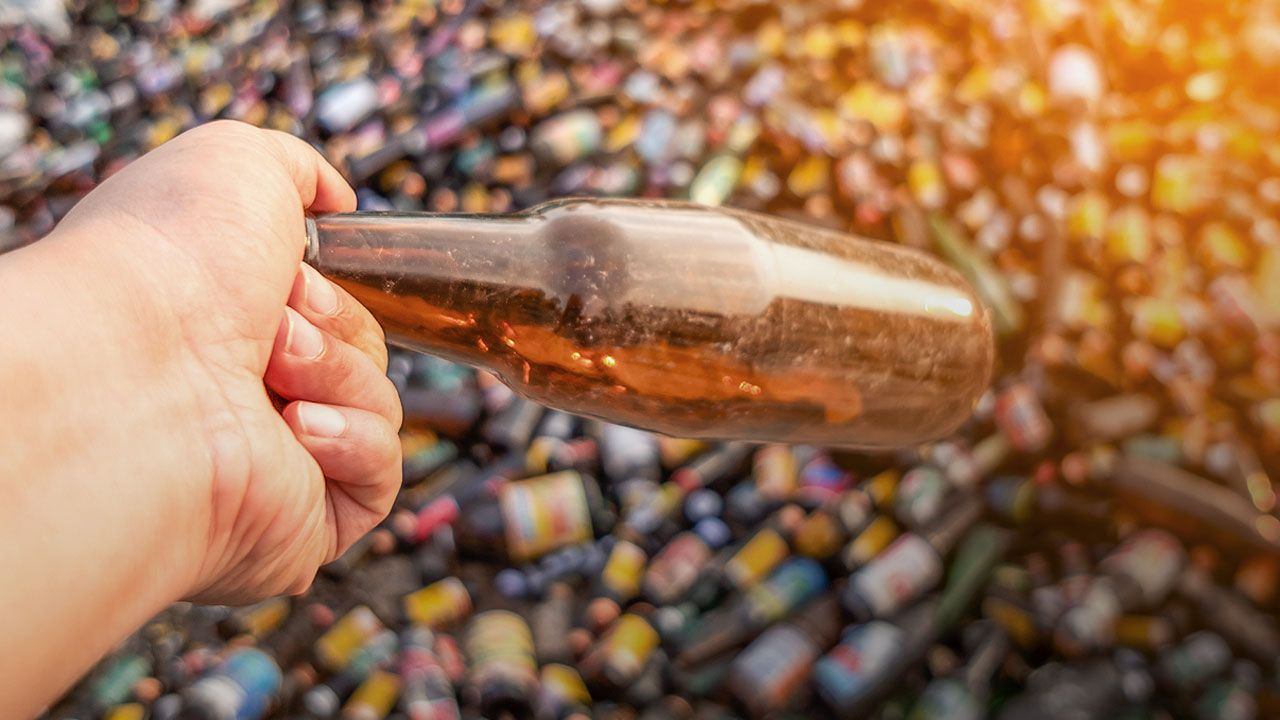glass_bottle: (303, 187, 1001, 473)
